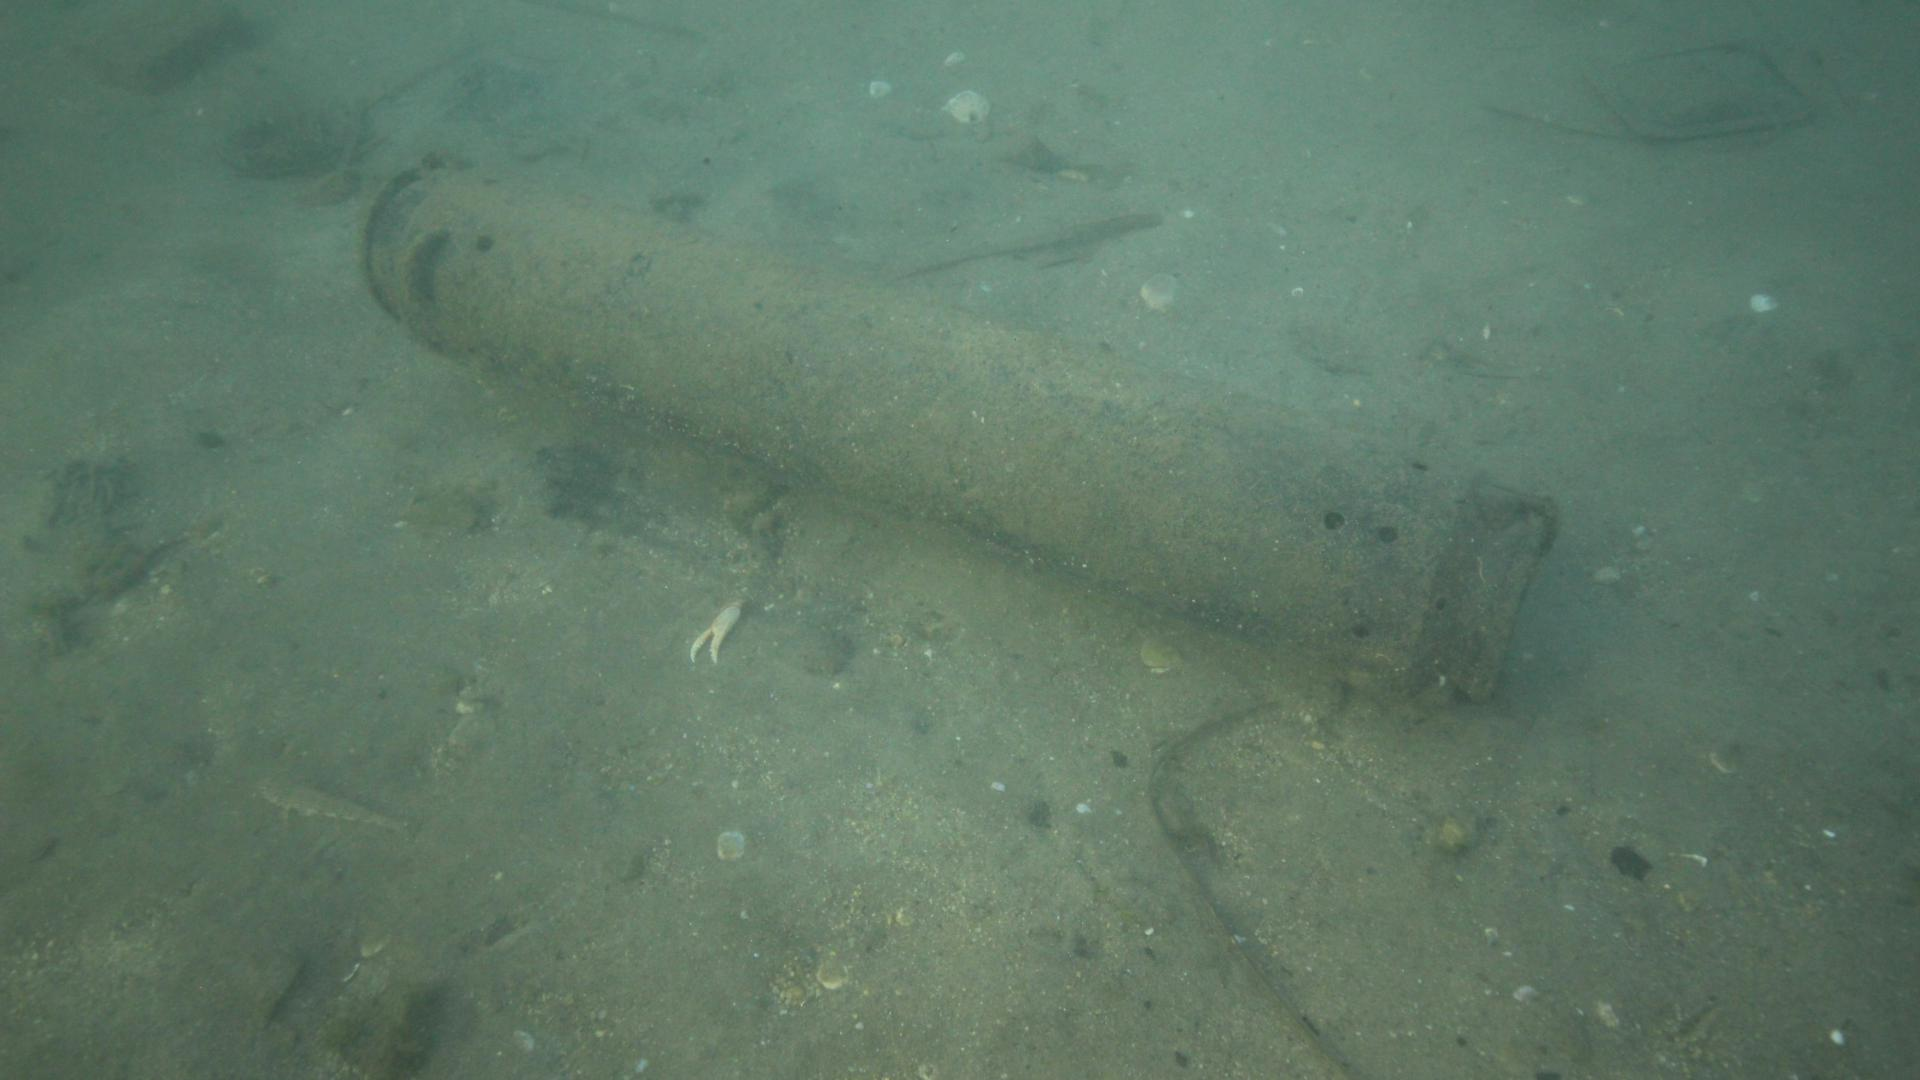eel fish trap: (355, 153, 1563, 727)
